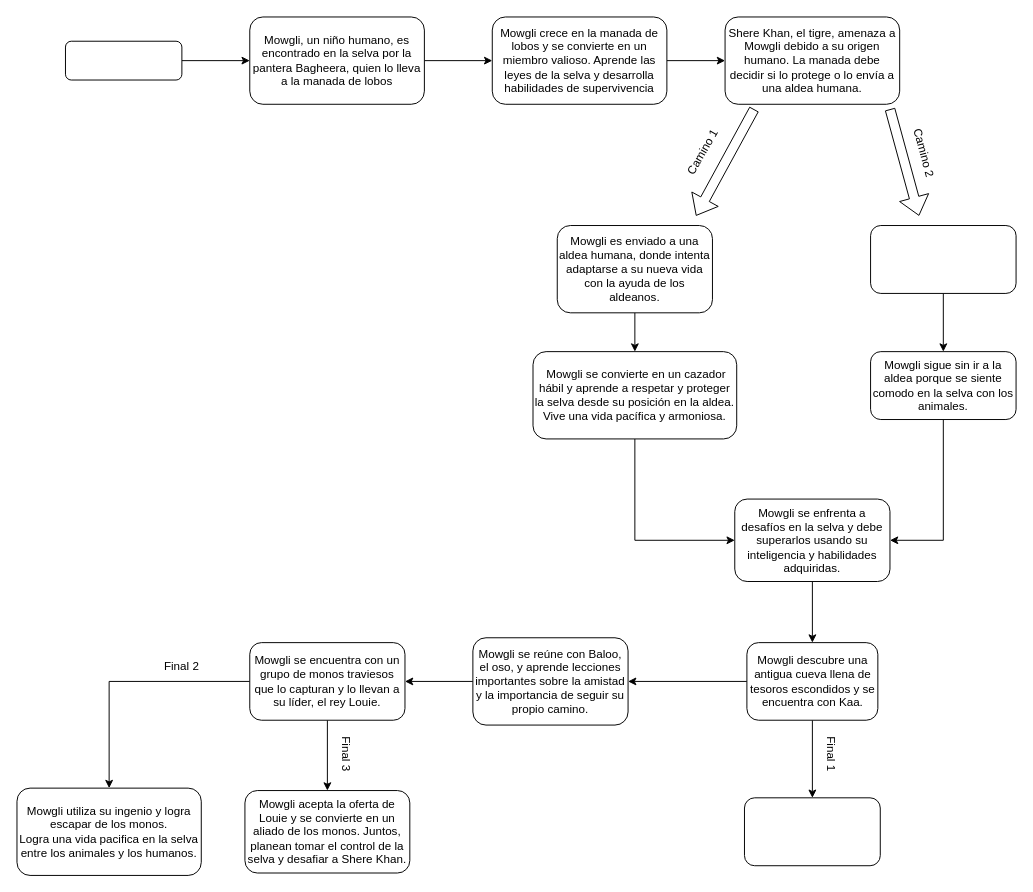
Image size: 1033x892. Some labels were removed from this diagram. The shapes that lost their labels are listed below. From the top down, each one's centre as x and y in pixels, then its label:
[123,60]: El Libro de la Selva
[943,259]: La manada lo protege y le enseña a Mowgli a sobrevivir en la selva
[812,831]: Kaa utilitza su fuerza para estrangular a Mowgli y acaba con su vida
